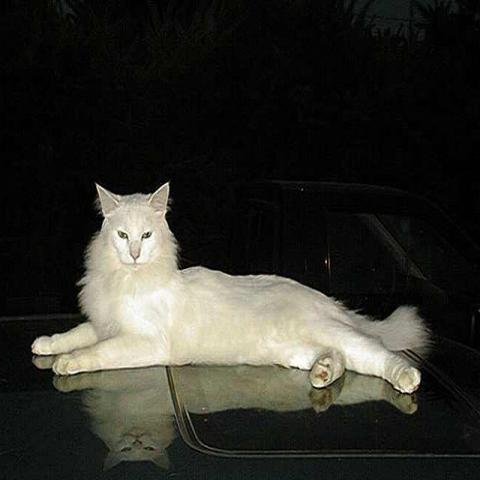car: (0, 313, 478, 478)
